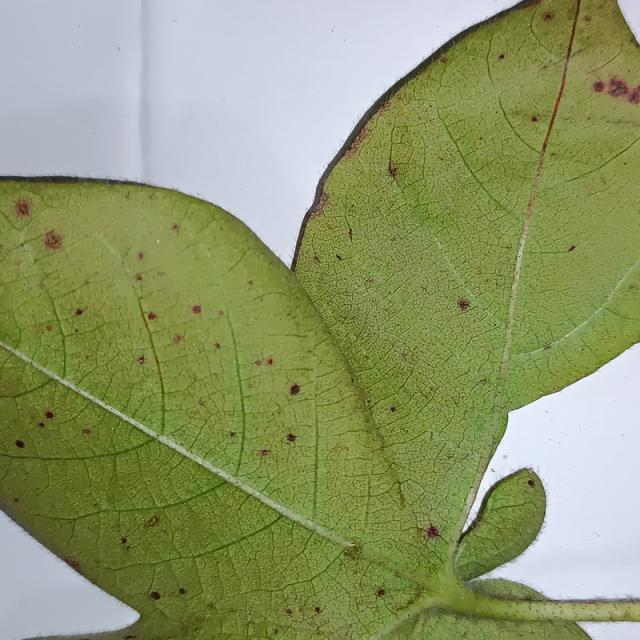Bacterial_Blight: (247, 372, 312, 475), (580, 25, 640, 111), (131, 278, 166, 424), (307, 190, 361, 275), (8, 197, 75, 264), (528, 2, 575, 59), (450, 284, 484, 317), (386, 144, 404, 196), (308, 186, 331, 220), (388, 478, 410, 510), (32, 410, 59, 430), (288, 376, 306, 405), (14, 196, 32, 219), (283, 375, 302, 396), (309, 228, 320, 264), (423, 523, 444, 541), (329, 442, 350, 457), (343, 544, 360, 561), (143, 515, 159, 529), (254, 448, 272, 458), (68, 559, 81, 572), (254, 358, 272, 367), (592, 81, 605, 93), (470, 520, 481, 532), (500, 240, 513, 250), (543, 12, 554, 22), (150, 591, 161, 601), (173, 334, 183, 344), (171, 223, 180, 234), (627, 284, 638, 292), (137, 355, 146, 364), (192, 305, 201, 314), (44, 411, 54, 419), (15, 440, 25, 448), (420, 285, 428, 294), (401, 351, 409, 360), (198, 399, 207, 407), (148, 312, 156, 320), (439, 56, 447, 64), (527, 479, 535, 487), (138, 252, 145, 260), (214, 342, 221, 350), (480, 378, 488, 385), (543, 344, 551, 351), (568, 245, 576, 252), (76, 308, 84, 315), (121, 537, 128, 545), (178, 588, 186, 595), (390, 406, 397, 413), (314, 607, 321, 614), (157, 271, 165, 277), (83, 429, 91, 435), (136, 274, 142, 281), (255, 360, 262, 366), (218, 310, 224, 317), (531, 116, 538, 122), (38, 422, 45, 428), (390, 236, 397, 242), (45, 325, 52, 331), (286, 608, 292, 615), (498, 54, 505, 60), (248, 280, 254, 286), (13, 497, 19, 503), (585, 16, 591, 22), (229, 432, 235, 437)
Cotton: (0, 0, 639, 639)
